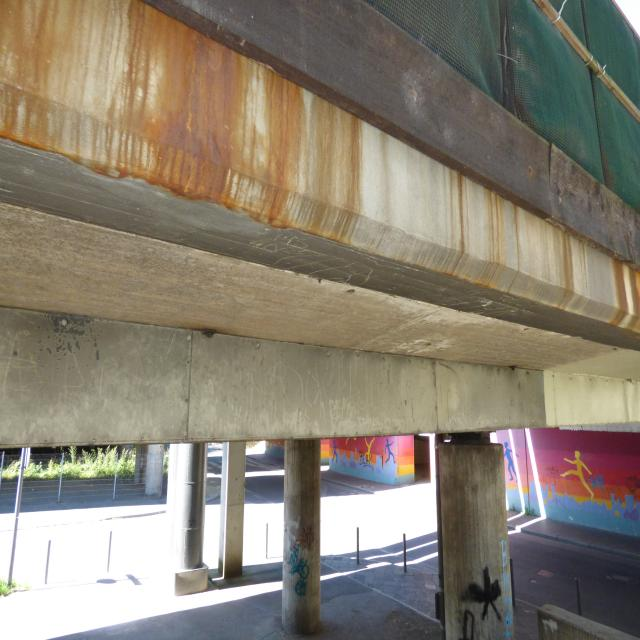corrosion: (0, 0, 375, 267), (415, 106, 640, 356)
